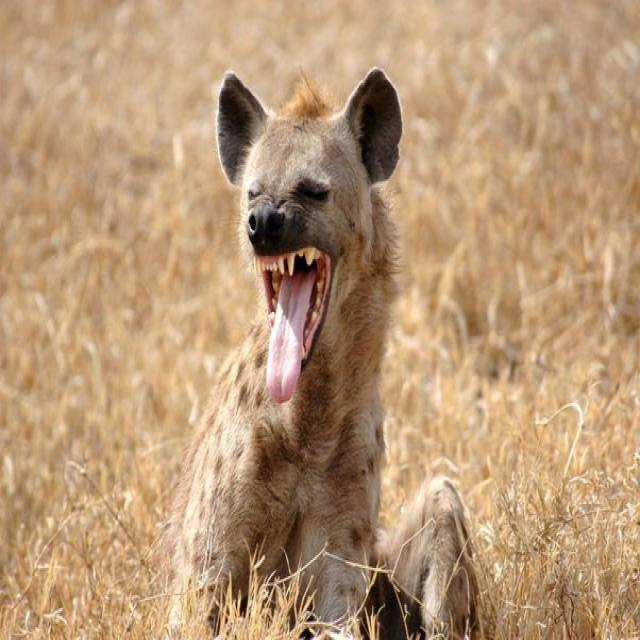Carnivorous: (175, 69, 479, 640)
